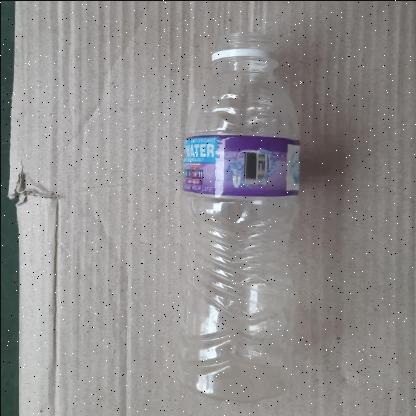Plastic Bottle: (178, 29, 300, 403)
